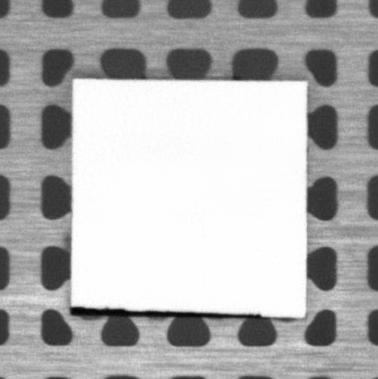DIE_BROKEN: (69, 304, 261, 318)
